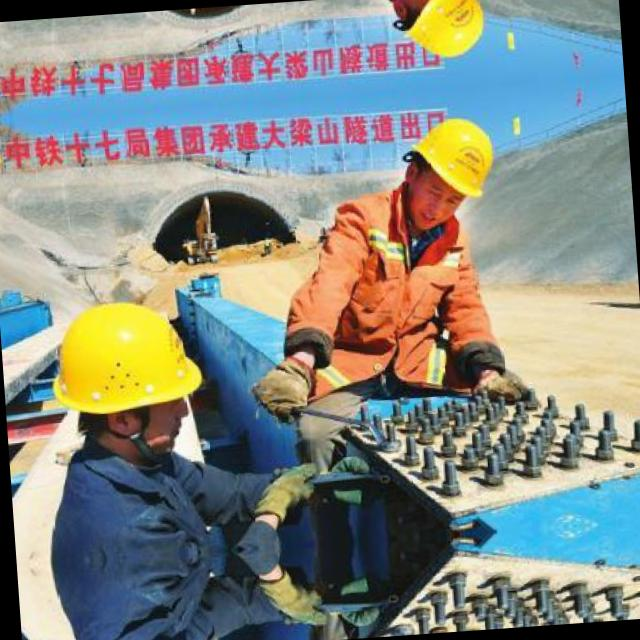helmet: (30, 286, 208, 465), (383, 99, 510, 233), (374, 0, 499, 78)
